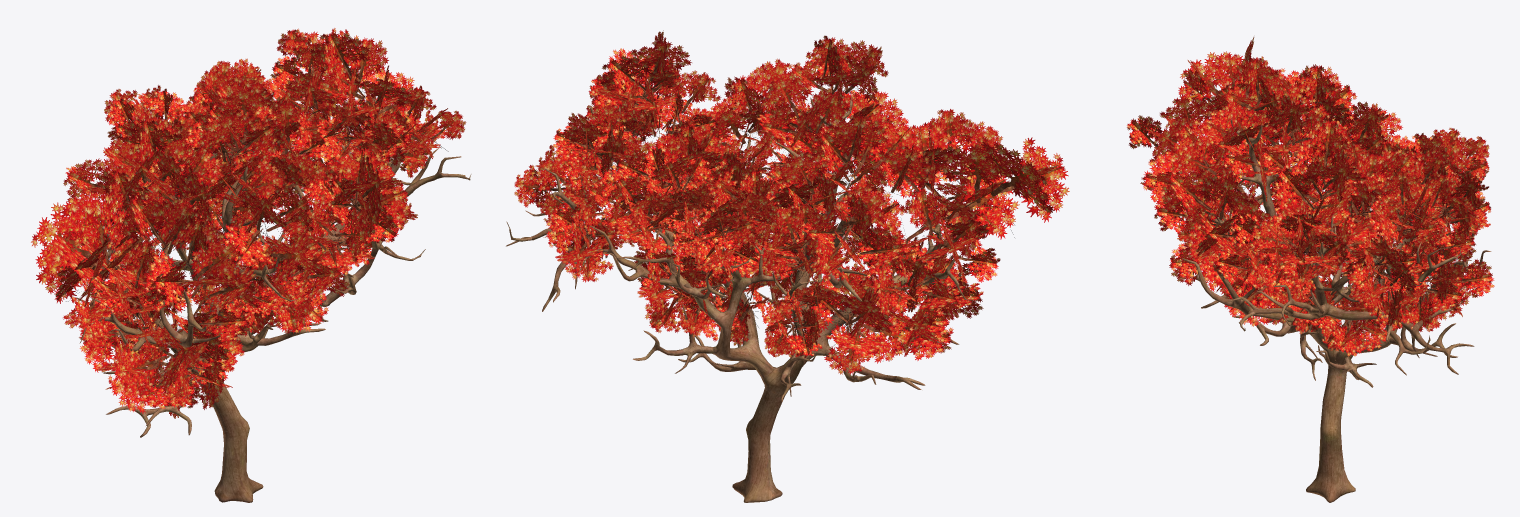
The model's file is maple.glb.
The picture shows the model from 3 angles, left to right: view 1: azimuth 30°, elevation 25°; view 2: azimuth 150°, elevation 25°; view 3: azimuth 270°, elevation 25°; orthographic projection. The views are drawn at different scales.
Parts seen in each view (by area): view 1: Forest_maple; view 2: Forest_maple; view 3: Forest_maple.
Boxes of the visible parts, <box> form: Forest_maple: <box>31,28,471,502</box>; Forest_maple: <box>506,30,1069,502</box>; Forest_maple: <box>1127,37,1494,502</box>.
Size of the model in its own units: 4.47 by 3.98 by 3.27.
Materials: 1 (1 with a texture image).
